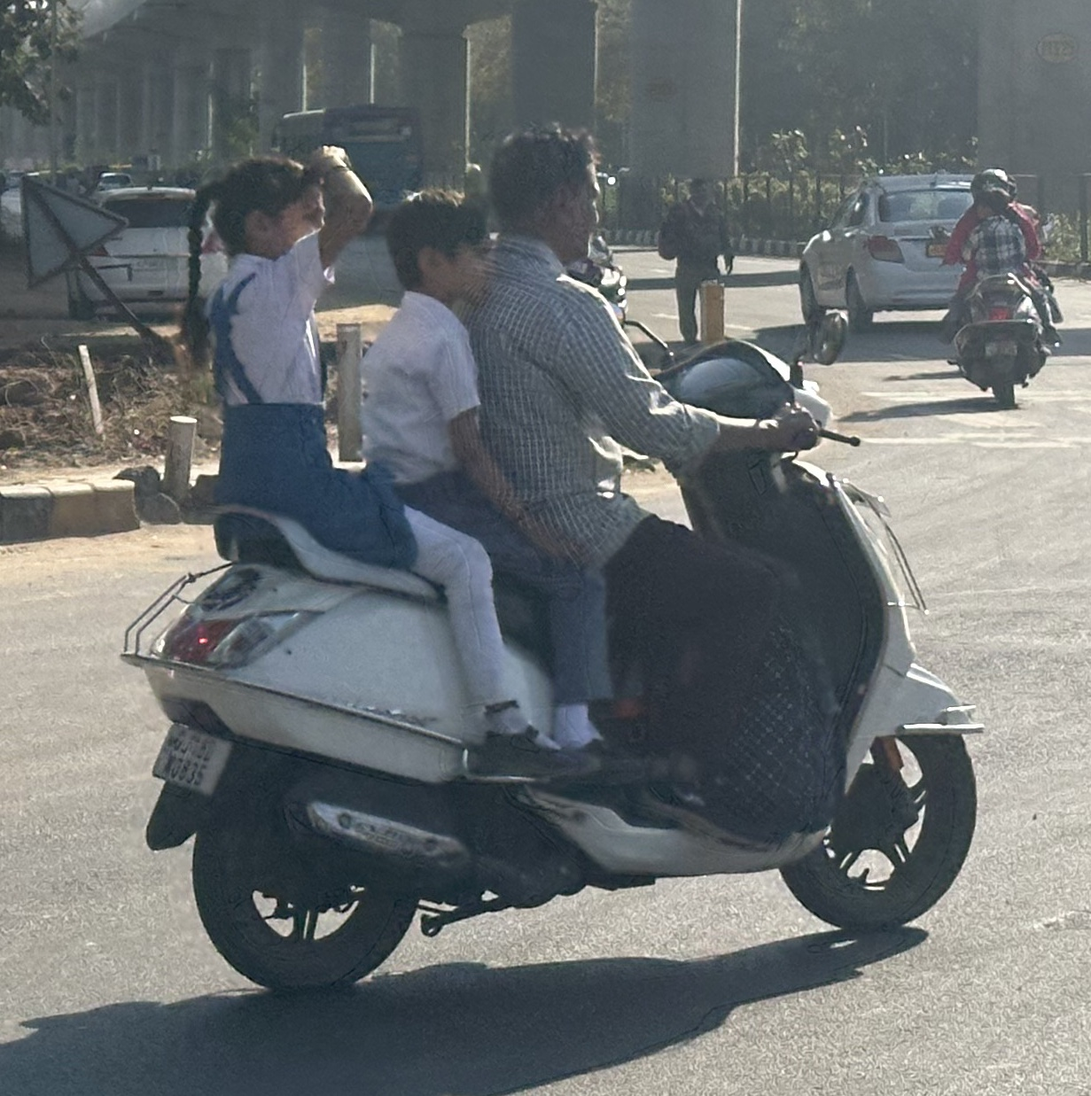BikeWithRider: (108, 110, 1001, 1006), (924, 158, 1070, 415)
Helmet: (966, 163, 1023, 210)
NoHelmet: (195, 144, 348, 287), (480, 116, 613, 268), (375, 177, 507, 314), (970, 185, 1020, 243), (978, 187, 1014, 221)
